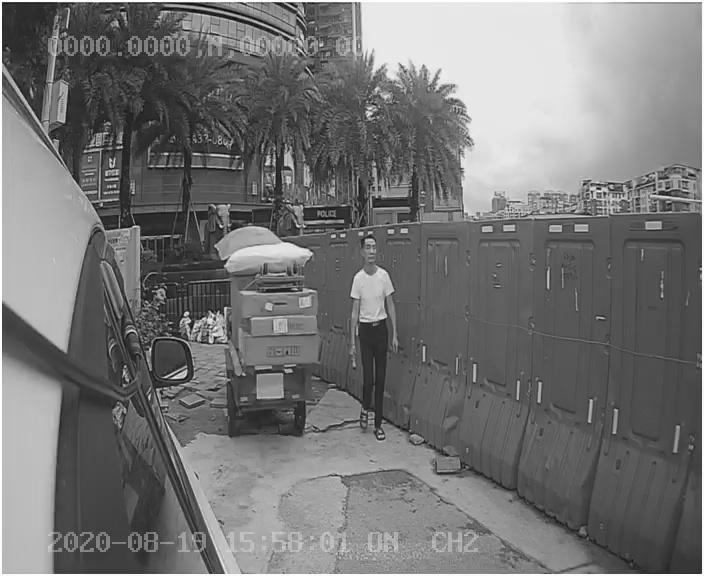person: (338, 232, 413, 442)
